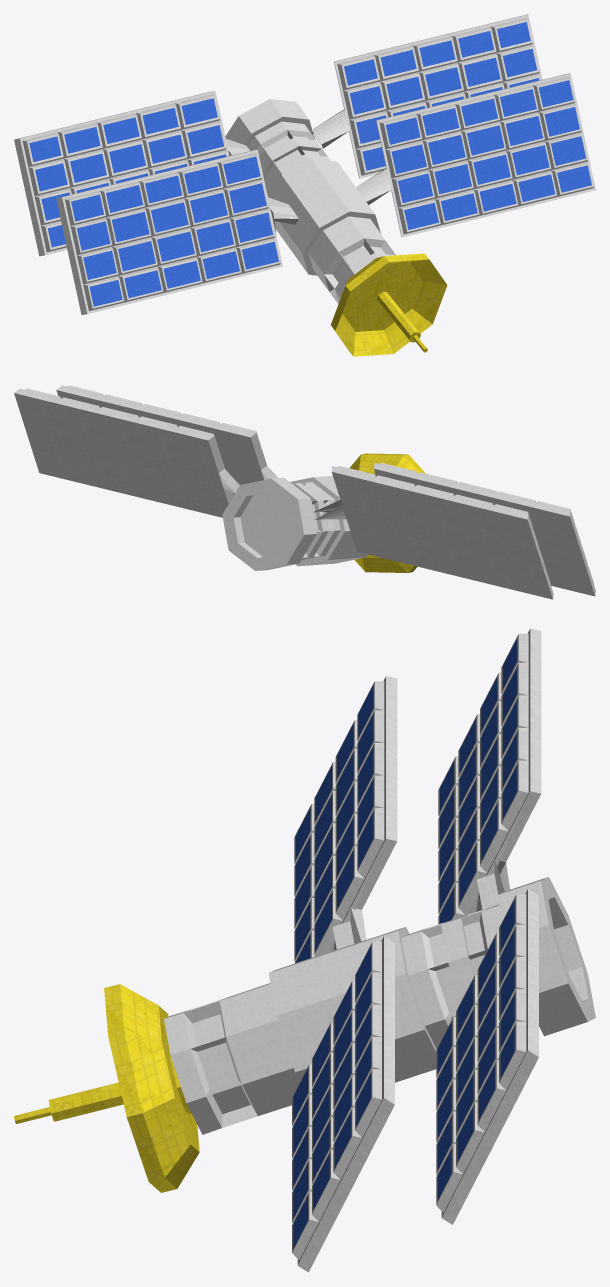
Rendered from satellite.glb.
3 views of the same model, one above another, from view 1: azimuth 30°, elevation 25°; view 2: azimuth 150°, elevation 25°; view 3: azimuth 270°, elevation 25° (orthographic). The views are drawn at different scales.
Parts seen in each view (by area): view 1: Circle, antenna; view 2: Circle, antenna; view 3: Circle, antenna.
Part boxes in pixels (x1=…): Circle: x1=14, y1=14, x2=595, y2=314; antenna: x1=331, y1=253, x2=447, y2=356; Circle: x1=14, y1=385, x2=595, y2=599; antenna: x1=349, y1=453, x2=425, y2=572; Circle: x1=164, y1=628, x2=595, y2=1272; antenna: x1=14, y1=984, x2=199, y2=1192.
Bounding box in the file's own units: 13.01 × 4.89 × 7.49.
3 materials, 3 textured.
